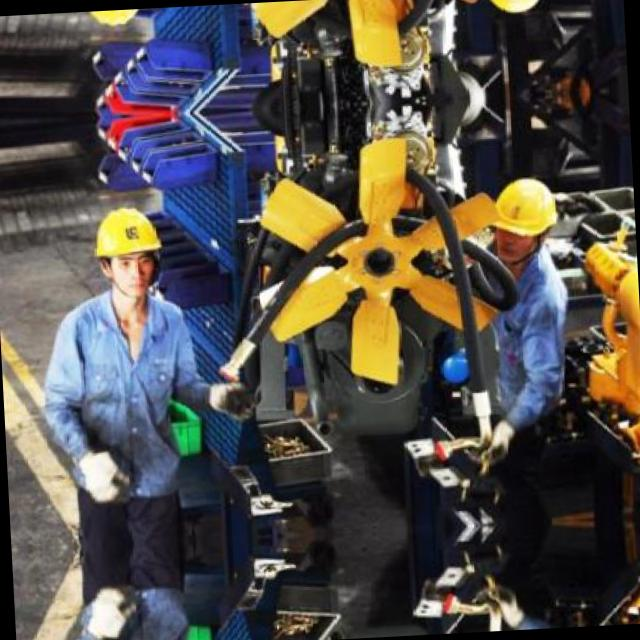helmet: (487, 168, 568, 270), (88, 201, 166, 305), (78, 8, 154, 32), (477, 0, 556, 23)
